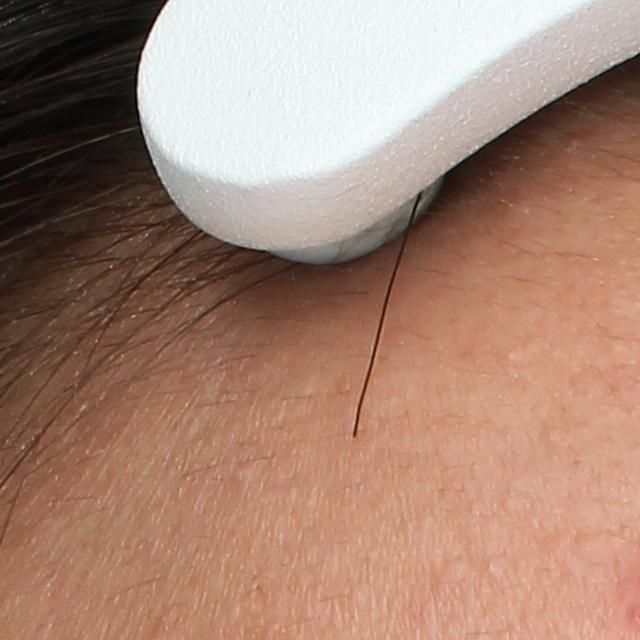comedo: (231, 461, 258, 486), (482, 557, 503, 580), (504, 347, 519, 366)
